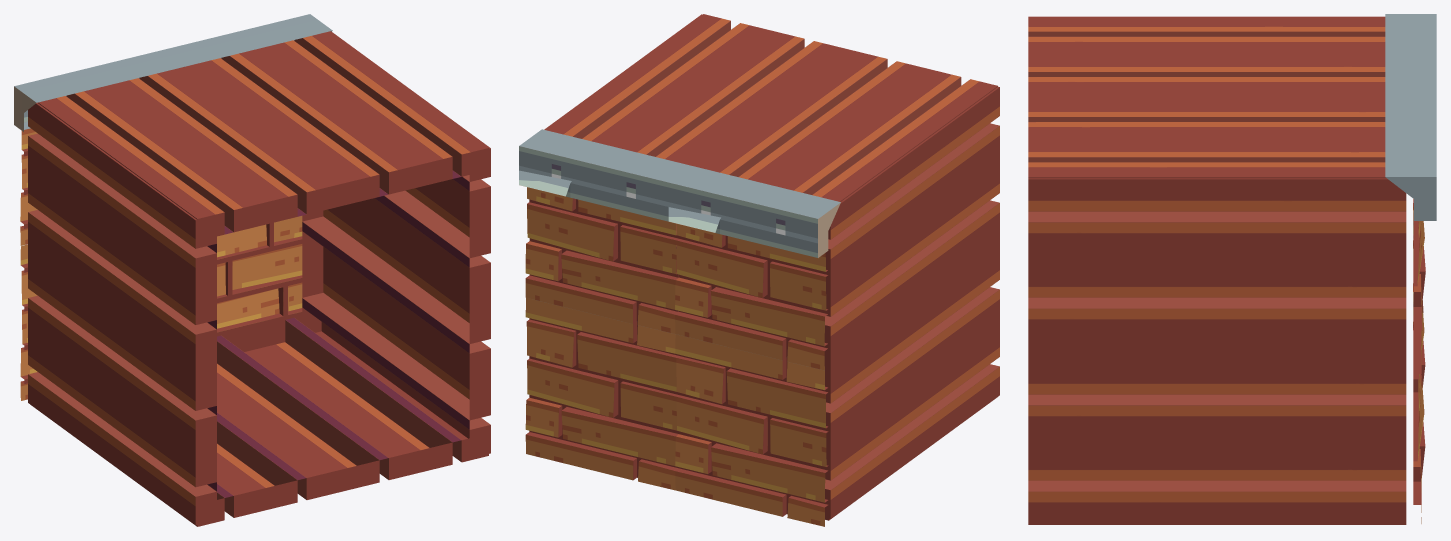
File: TopKayu.fbx
3 renders of one model, left to right at view 1: azimuth 30°, elevation 25°; view 2: azimuth 150°, elevation 25°; view 3: azimuth 270°, elevation 25°, orthographic. The views are drawn at different scales.
Parts seen in each view (by area): view 1: TopKayu; view 2: TopKayu; view 3: TopKayu.
Boxes of the visible parts, left/top/right/bottom form: TopKayu: left=14, top=14, right=490, bottom=526; TopKayu: left=519, top=14, right=999, bottom=526; TopKayu: left=1028, top=14, right=1436, bottom=524.
Bounding box in the file's own units: 94.83 × 94.81 × 100.
